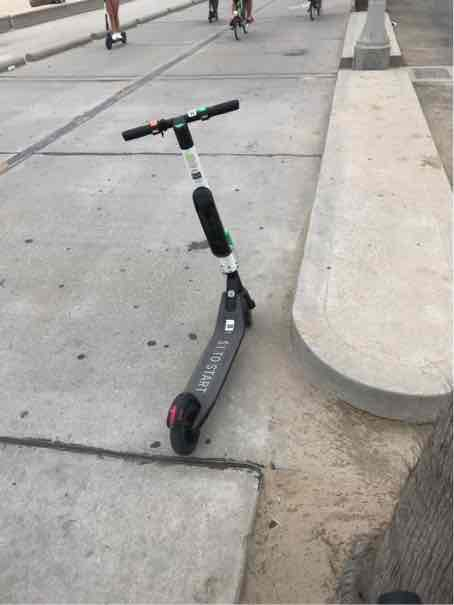scooter: (112, 92, 281, 475)
